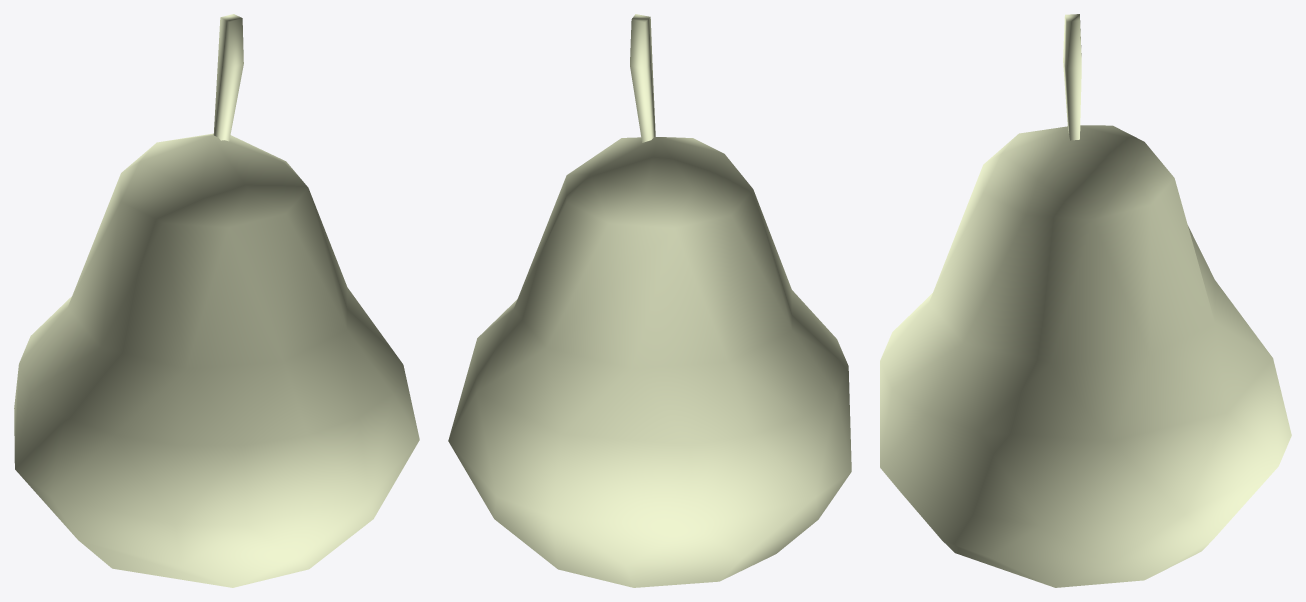
Rendered from FP_quince.FBX.
3 renders of one model, left to right at view 1: azimuth 30°, elevation 25°; view 2: azimuth 150°, elevation 25°; view 3: azimuth 270°, elevation 25°, orthographic. The views are drawn at different scales.
Visible parts, largest first — view 1: FP_quince; view 2: FP_quince; view 3: FP_quince.
Part boxes in pixels (x1,y1,x2,y2): FP_quince: (14,14,419,587); FP_quince: (448,14,851,587); FP_quince: (880,14,1291,587).
Bounding box in the file's own units: 0.0448 × 0.0636 × 0.0439.
